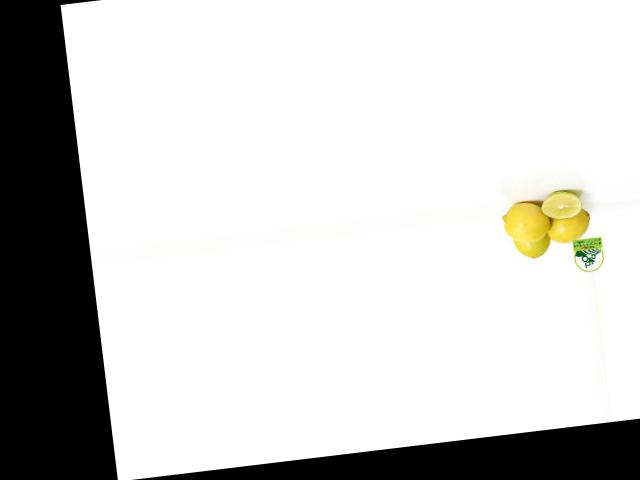lemon: (496, 196, 551, 245)
